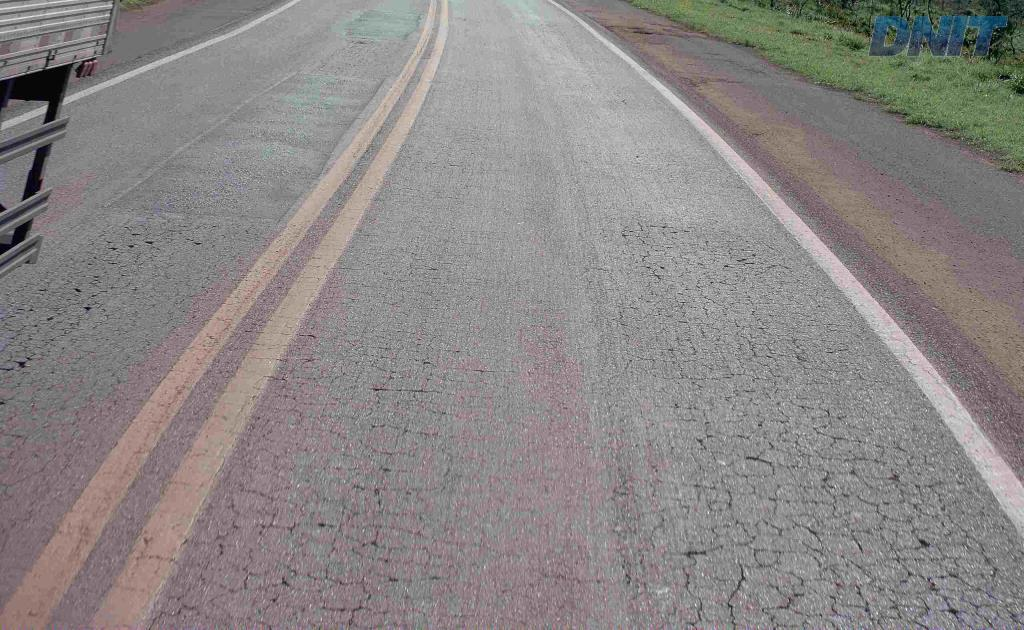crack: (954, 523, 1014, 603)
